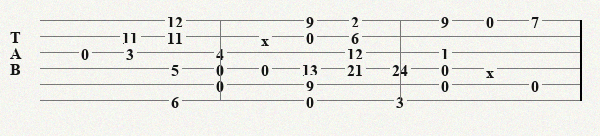0: (81, 45, 93, 60), (216, 77, 228, 92), (216, 61, 228, 76), (261, 61, 273, 76), (306, 29, 318, 44), (306, 93, 318, 108), (441, 77, 453, 92), (441, 61, 453, 76), (486, 13, 498, 28), (531, 77, 543, 92)
1: (441, 45, 453, 60)
11: (122, 29, 142, 44), (167, 29, 187, 44)
12: (167, 13, 187, 28), (347, 45, 367, 60)
13: (302, 61, 322, 76)
2: (351, 13, 363, 28)
21: (347, 61, 367, 76)
24: (392, 61, 412, 76)
3: (126, 45, 138, 60), (396, 93, 408, 108)
4: (216, 45, 228, 60)
5: (171, 61, 183, 76)
6: (171, 93, 183, 108), (351, 29, 363, 44)
7: (531, 13, 543, 28)
9: (306, 77, 318, 92), (306, 13, 318, 28), (441, 13, 453, 28)
x: (261, 31, 273, 42), (486, 63, 498, 74)
